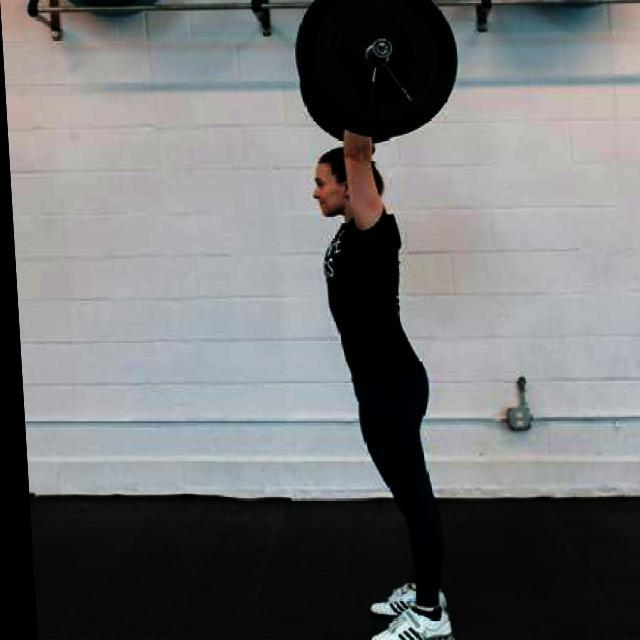barbell: (286, 1, 474, 148)
